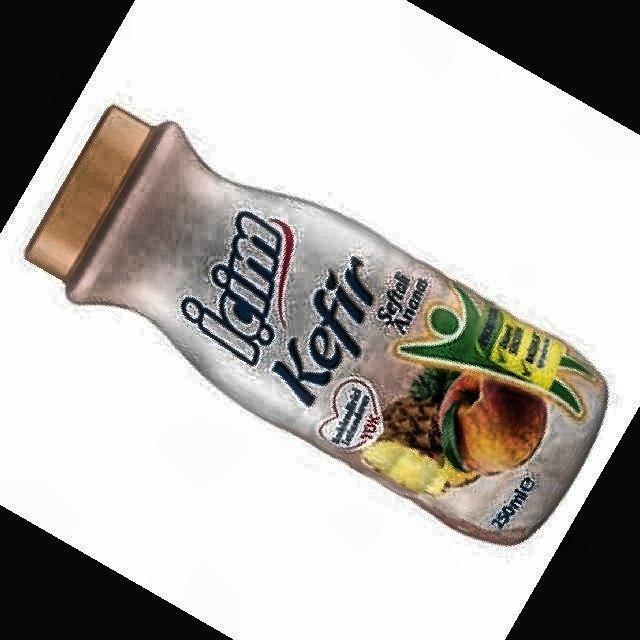plastic: (26, 108, 608, 543)
